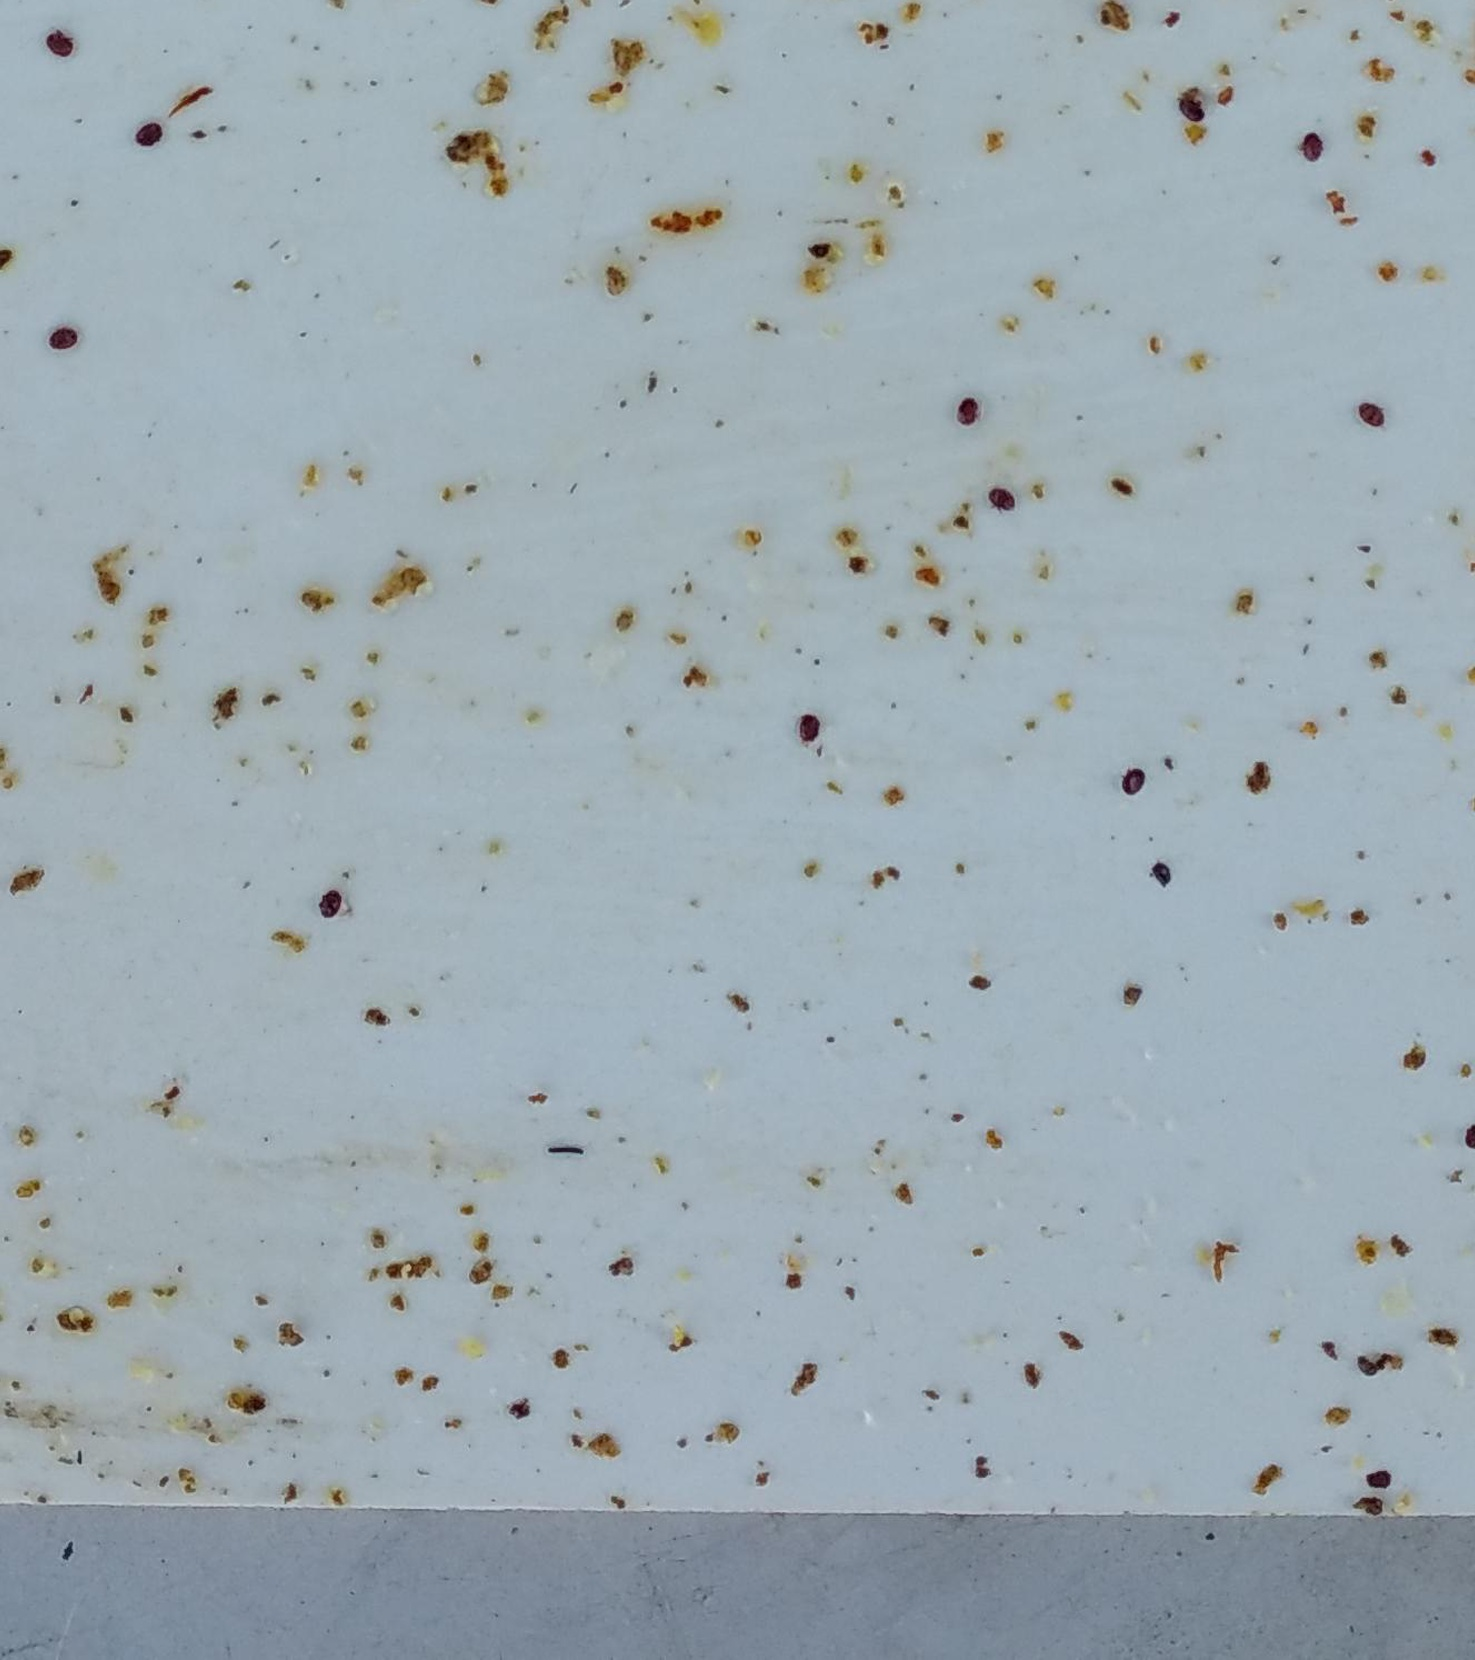Varroa: (43, 320, 85, 362), (789, 708, 830, 750), (38, 23, 80, 64), (128, 114, 169, 155), (1172, 90, 1213, 131), (948, 390, 990, 431), (982, 478, 1024, 520), (310, 883, 352, 924), (1290, 127, 1331, 167), (1353, 394, 1392, 436), (1113, 762, 1155, 802)
